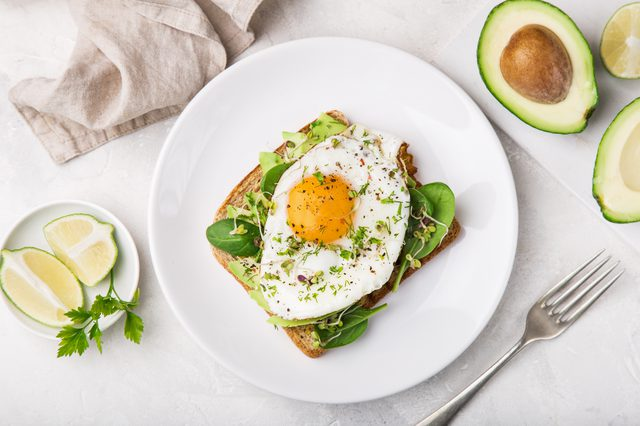fried egg: (268, 137, 396, 316)
slice of bread: (206, 106, 462, 360)
